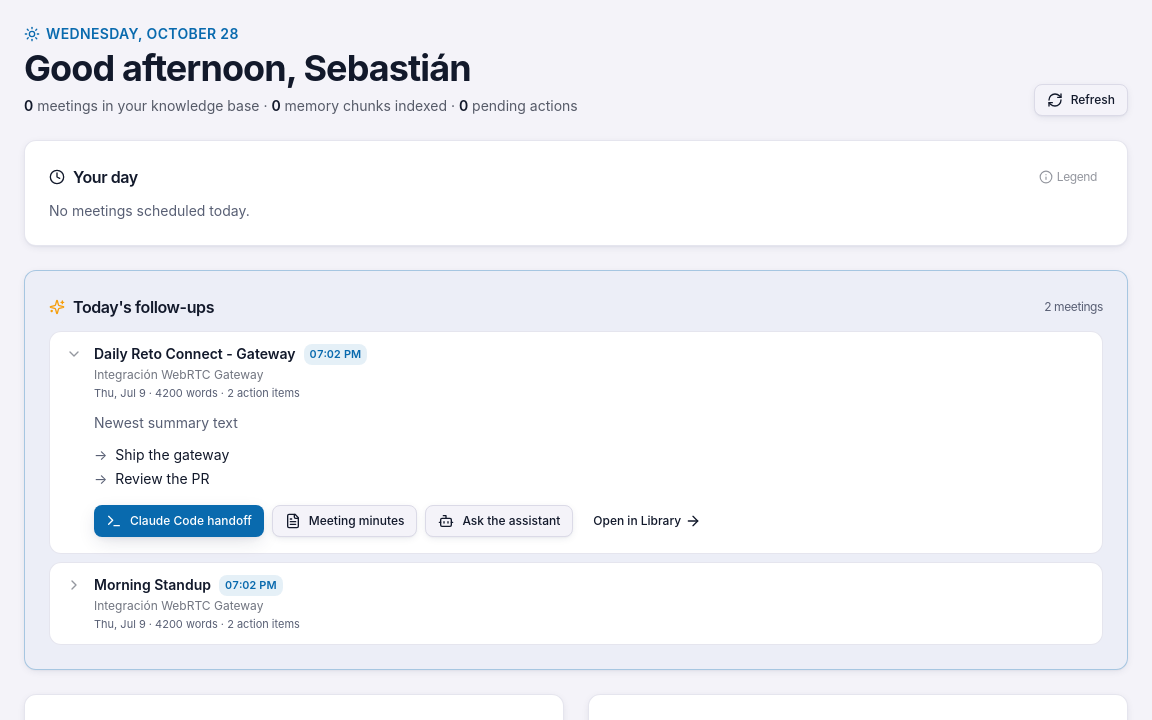
Scenario: Today — Today's follow-ups digest › defaults the most-recent row expanded (summary + CTAs) and collapses older rows
Expected: the text "Today's follow-ups" is shown, 49,295 -> 214,319
Expected: the text "Newest summary text" is shown, 94,414 -> 238,431
Click the button with test id "followup-row".
click(152, 585)  # box 50,563 -> 1102,644
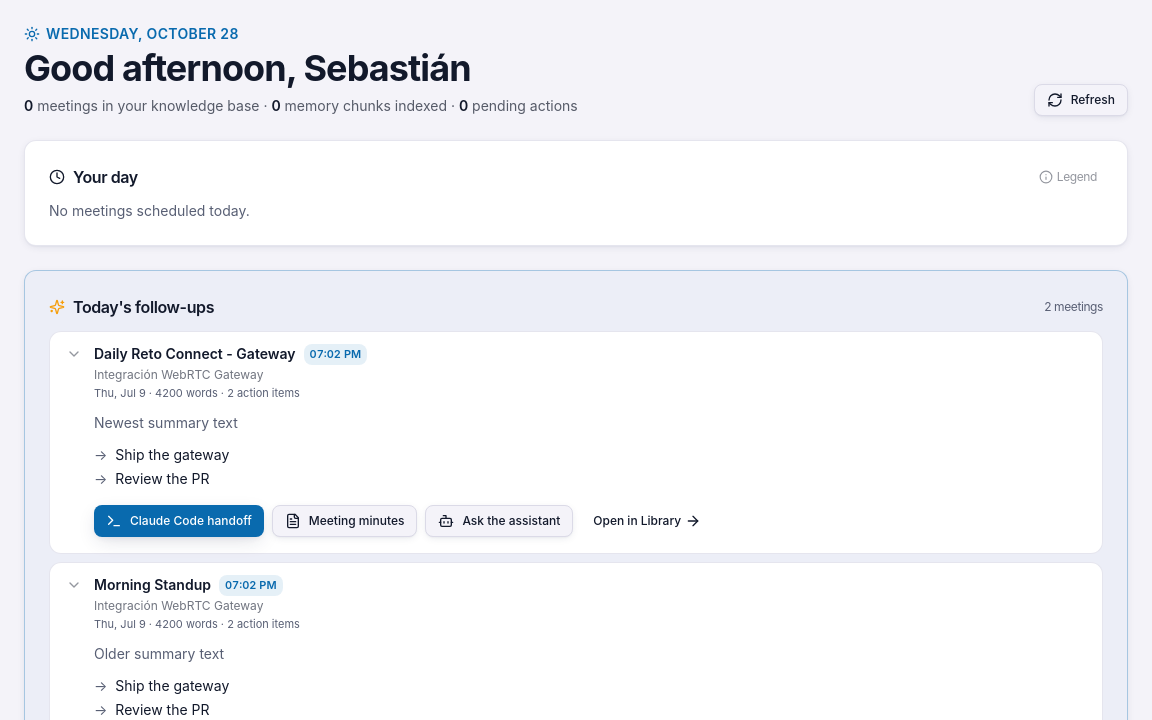
Expected: the text "Older summary text" is shown, 94,645 -> 224,662
